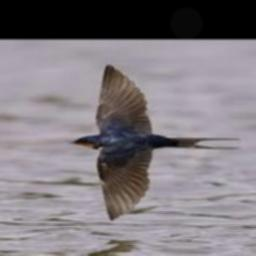Swallow: (70, 65, 243, 221)
